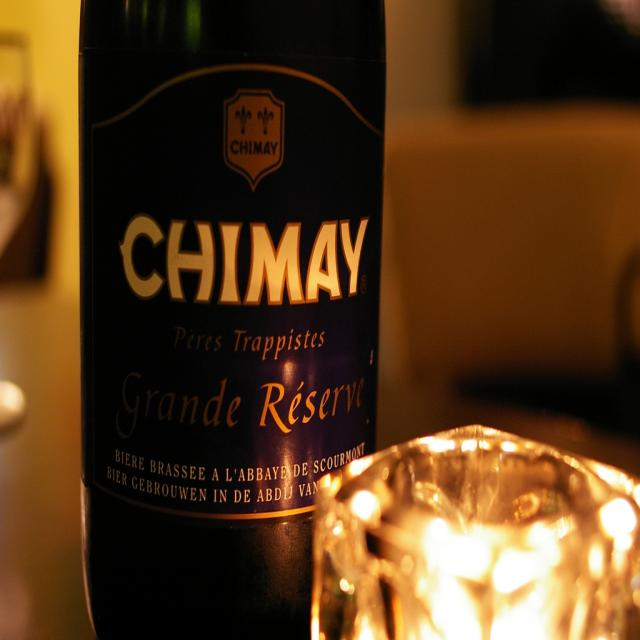chimay: (92, 64, 386, 514)
